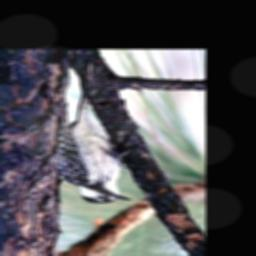Woodpecker: (53, 93, 134, 204)
